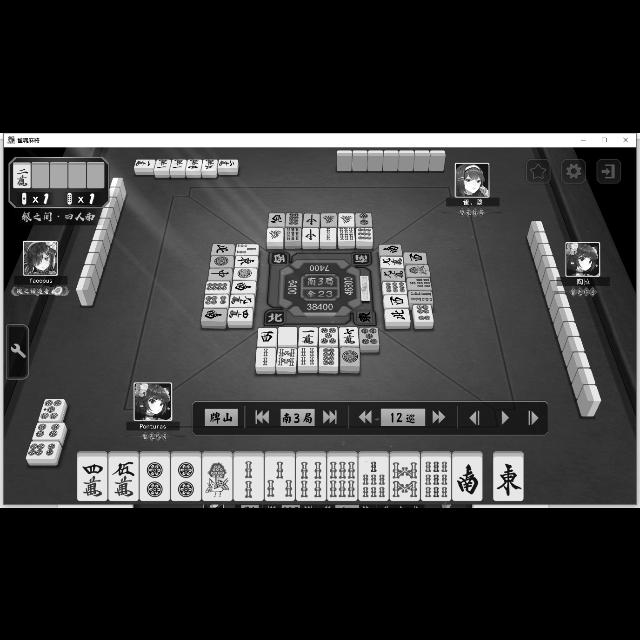1m: (298, 326, 318, 344), (134, 158, 154, 168), (170, 158, 186, 170), (154, 159, 170, 169)
1p: (341, 346, 359, 366), (210, 256, 233, 266), (234, 268, 256, 278)
1s: (202, 456, 232, 500), (406, 264, 430, 276)
2m: (14, 164, 31, 188), (218, 158, 238, 166)
2p: (140, 456, 170, 500), (172, 456, 200, 500), (356, 212, 372, 226)
2s: (234, 456, 264, 500), (256, 348, 274, 366), (320, 228, 336, 240)
3m: (201, 158, 217, 170)
3s: (264, 456, 296, 500), (235, 243, 259, 254)
4m: (77, 458, 107, 500), (228, 306, 252, 320), (186, 158, 202, 170)
4p: (33, 420, 66, 440)
4s: (296, 456, 326, 500), (298, 347, 318, 365), (409, 290, 433, 302)
5m: (108, 456, 138, 500)
5p: (37, 397, 65, 421), (319, 326, 337, 344), (360, 328, 380, 344)
6p: (25, 440, 59, 458), (414, 304, 434, 320), (204, 294, 228, 306)
6s: (327, 457, 358, 501), (338, 226, 354, 240)
7m: (339, 327, 358, 345)
7s: (359, 457, 388, 501), (407, 276, 431, 290)
8p: (318, 346, 338, 366), (206, 280, 228, 294), (286, 212, 302, 226)
8s: (390, 456, 420, 500), (278, 346, 296, 366)
9m: (230, 294, 254, 306), (382, 268, 406, 280), (381, 256, 404, 266)
9p: (382, 281, 408, 293), (356, 226, 374, 240)
9s: (420, 456, 450, 500), (285, 226, 301, 240)
chun: (208, 268, 232, 278), (304, 212, 320, 225), (302, 228, 318, 240)
haku: (278, 327, 296, 345)
hatsu: (320, 212, 338, 226), (266, 227, 284, 241), (338, 212, 354, 226)
nan: (453, 456, 482, 500), (232, 280, 256, 292), (202, 308, 226, 320), (380, 243, 402, 254)
pe: (384, 309, 410, 321), (211, 242, 233, 254)
sha: (256, 326, 276, 346), (384, 294, 408, 306), (404, 251, 426, 263), (268, 212, 284, 226)
tou: (493, 456, 523, 500), (236, 256, 258, 266)
